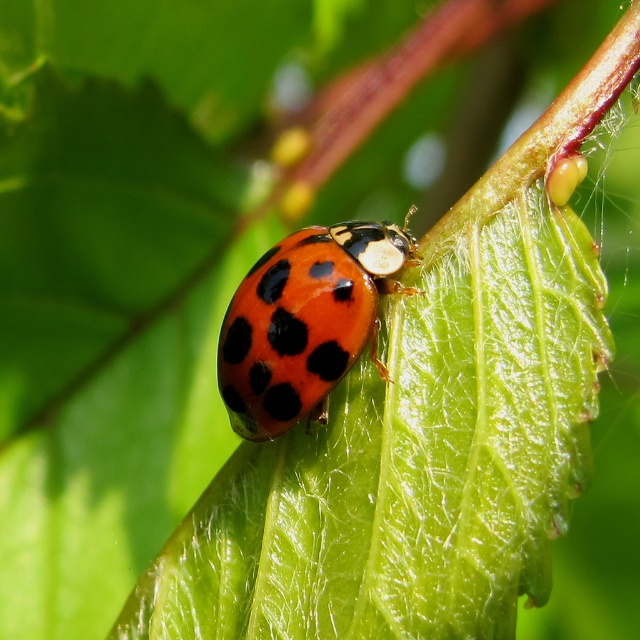Ladybug: (213, 224, 433, 440)
